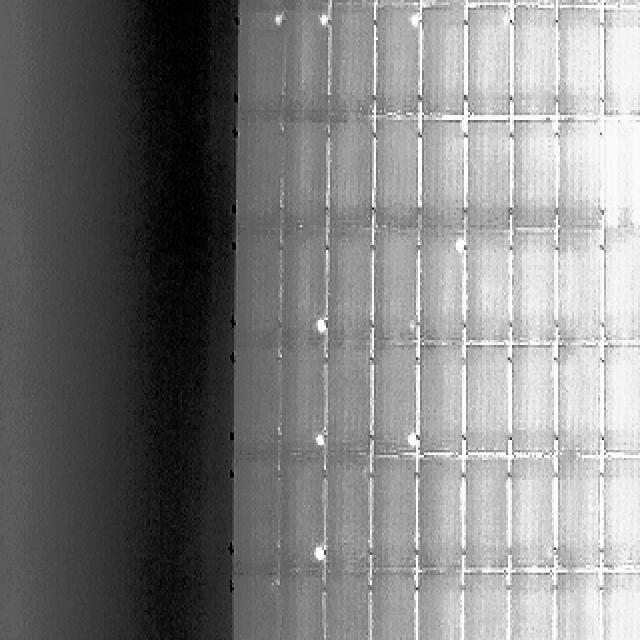Hotspots: (304, 314, 326, 341), (302, 542, 324, 568), (304, 426, 325, 451), (314, 541, 333, 568), (403, 427, 420, 451), (316, 315, 333, 338), (446, 237, 463, 258), (268, 8, 285, 28), (317, 8, 333, 29), (318, 426, 333, 448), (410, 8, 420, 34)
PV-modules: (229, 575, 326, 640), (322, 453, 370, 574), (416, 226, 464, 343), (329, 7, 378, 121), (463, 232, 512, 346), (371, 454, 419, 570), (234, 458, 282, 574), (325, 228, 373, 344), (416, 454, 463, 572), (463, 455, 511, 570), (325, 345, 374, 457), (279, 344, 327, 458), (237, 119, 284, 235), (234, 347, 282, 460), (280, 231, 327, 346), (415, 348, 464, 458), (513, 229, 559, 346), (278, 10, 326, 122), (508, 454, 554, 570), (556, 454, 602, 570), (557, 229, 603, 345), (508, 347, 556, 458), (236, 232, 282, 347), (329, 122, 377, 232), (280, 454, 324, 574), (555, 10, 602, 122), (369, 345, 416, 457), (417, 122, 464, 234), (466, 122, 513, 234), (376, 226, 421, 342), (556, 347, 603, 458), (281, 122, 328, 233), (372, 120, 418, 232), (420, 7, 466, 119), (513, 8, 559, 120), (467, 6, 512, 120), (373, 7, 419, 118), (557, 122, 603, 233), (466, 347, 512, 458), (514, 123, 560, 233), (235, 9, 281, 114), (602, 452, 640, 568), (602, 230, 640, 345), (602, 8, 640, 120), (602, 345, 640, 457), (604, 120, 640, 232), (412, 572, 462, 640), (592, 570, 640, 640), (371, 574, 418, 640), (554, 575, 601, 640), (324, 575, 371, 640), (462, 576, 509, 640), (506, 575, 552, 640), (596, 575, 640, 640), (244, 0, 330, 8), (556, 0, 602, 5), (420, 0, 466, 5), (514, 0, 560, 5), (240, 0, 282, 5), (602, 0, 640, 5), (330, 0, 378, 2), (372, 0, 420, 2), (466, 0, 514, 2)
